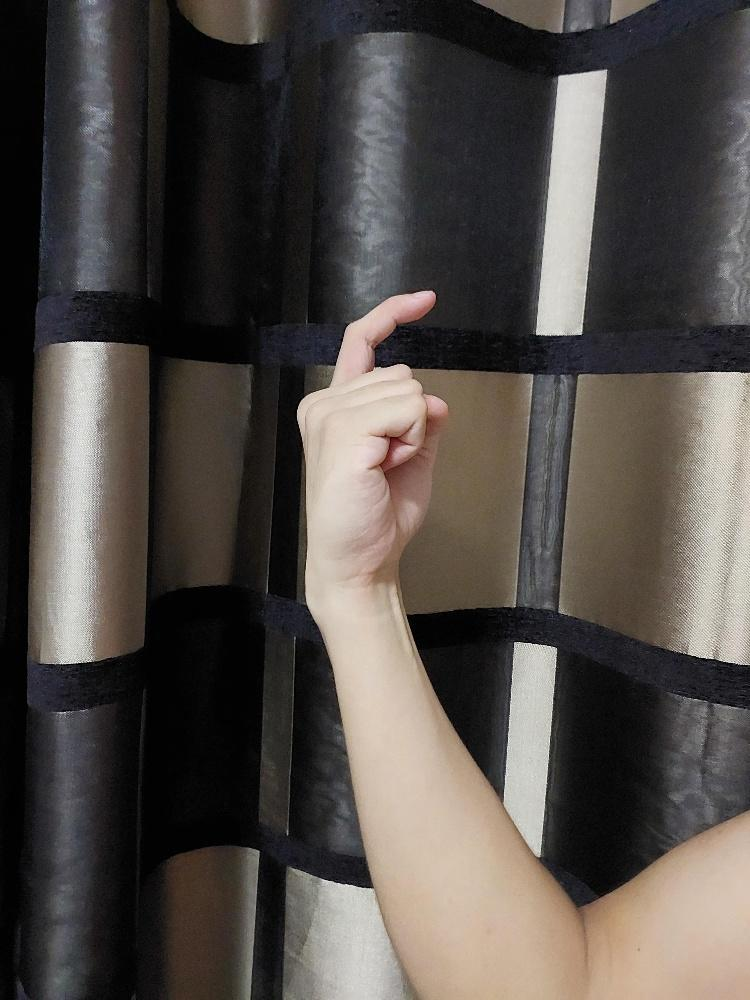x: (294, 286, 450, 588)
